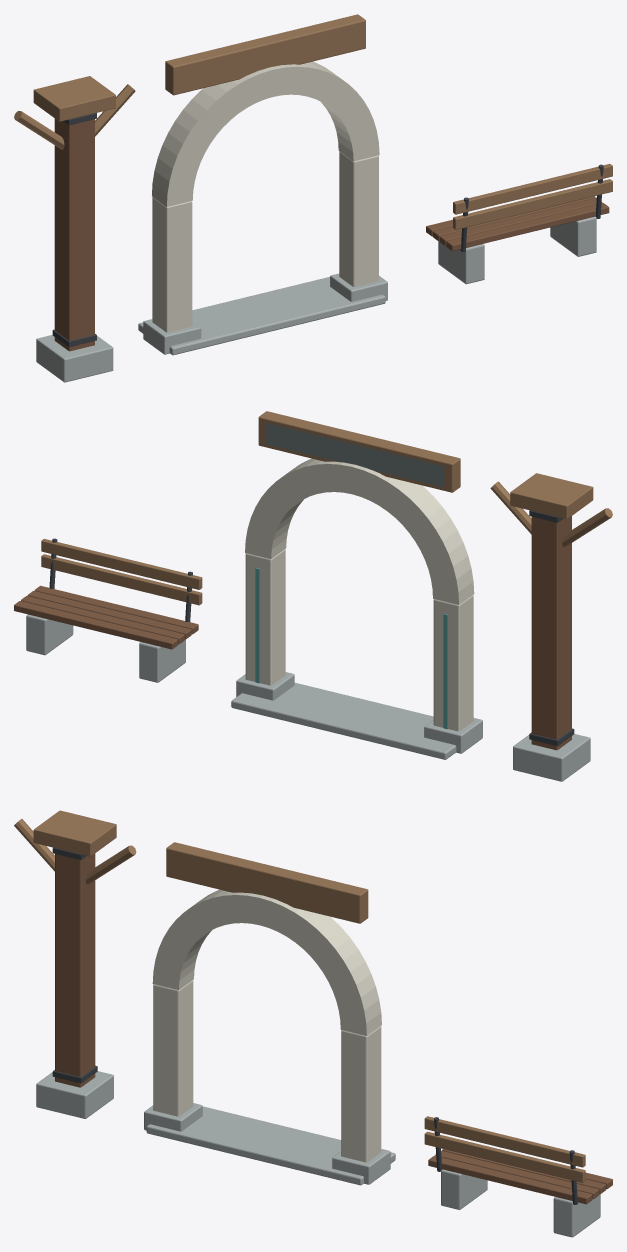
The model's file is fullfilm_v2_hub_detail_kit.glb.
3 renders of one model, top to bottom at view 1: azimuth 30°, elevation 25°; view 2: azimuth 150°, elevation 25°; view 3: azimuth 330°, elevation 25°, orthographic.
Visible parts, largest first — view 1: HubEntrance_ArchRib, HubPost_Timber, HubSign_Body, HubEntrance_Threshold, HubEntrance_Jamb, HubEntrance_Jamb.001, HubPost_Capital, HubPost_StoneShoe, HubBench_BackSlat, HubBench_BackSlat.001, HubBench_TopSlat, HubBench_StoneSupport (+8 smaller); view 2: HubEntrance_ArchRib, HubPost_Timber, HubEntrance_Threshold, HubEntrance_Jamb, HubEntrance_Jamb.001, UI_HubSign, HubSign_Body, HubPost_Capital, HubPost_StoneShoe, HubBench_BackSlat.001, HubBench_BackSlat, HubBench_TopSlat.003 (+12 smaller); view 3: HubEntrance_ArchRib, HubPost_Timber, HubSign_Body, HubEntrance_Threshold, HubEntrance_Jamb, HubEntrance_Jamb.001, HubPost_Capital, HubPost_StoneShoe, HubBench_BackSlat, HubBench_BackSlat.001, HubBench_TopSlat, HubBench_StoneSupport.001 (+5 smaller).
Part boxes in pixels (x1,y1,x2,y2): HubEntrance_ArchRib: (152, 61, 379, 206); HubPost_Timber: (54, 118, 94, 351); HubSign_Body: (165, 14, 365, 95); HubEntrance_Threshold: (138, 277, 385, 355); HubEntrance_Jamb: (152, 197, 192, 332); HubEntrance_Jamb.001: (339, 151, 378, 286); HubPost_Capital: (33, 76, 115, 121); HubPost_StoneShoe: (36, 335, 113, 382); HubBench_BackSlat: (453, 179, 612, 229); HubBench_BackSlat.001: (453, 164, 612, 214); HubBench_TopSlat: (446, 203, 609, 251); HubBench_StoneSupport: (438, 241, 484, 284); HubEntrance_ArchRib: (245, 458, 474, 604); HubPost_Timber: (531, 516, 571, 750); HubEntrance_Threshold: (231, 682, 456, 759); HubEntrance_Jamb: (433, 595, 473, 731); HubEntrance_Jamb.001: (245, 549, 285, 685); UI_HubSign: (266, 423, 444, 487); HubSign_Body: (258, 411, 460, 492); HubPost_Capital: (510, 473, 593, 519); HubPost_StoneShoe: (513, 734, 590, 781); HubBench_BackSlat.001: (41, 538, 202, 589); HubBench_BackSlat: (41, 554, 202, 605); HubBench_TopSlat.003: (14, 601, 177, 649); HubEntrance_ArchRib: (152, 889, 381, 1035); HubPost_Timber: (55, 853, 95, 1087); HubSign_Body: (166, 842, 368, 923); HubEntrance_Threshold: (146, 1106, 395, 1185); HubEntrance_Jamb: (153, 980, 193, 1116); HubEntrance_Jamb.001: (341, 1026, 381, 1162); HubPost_Capital: (33, 810, 116, 856); HubPost_StoneShoe: (36, 1071, 113, 1118); HubBench_BackSlat: (424, 1131, 585, 1182); HubBench_BackSlat.001: (424, 1116, 585, 1167); HubBench_TopSlat: (428, 1155, 592, 1204); HubBench_StoneSupport.001: (553, 1194, 600, 1237).
Size of the model in its own units: 7.16 by 3.29 by 0.8267.
